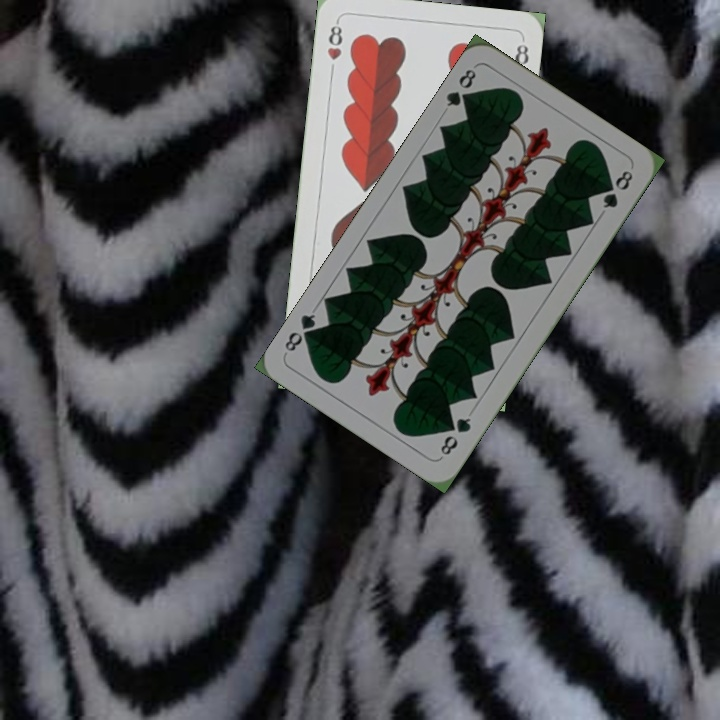G8: (436, 413, 474, 460), (442, 65, 479, 110)
H8: (323, 17, 345, 63)
